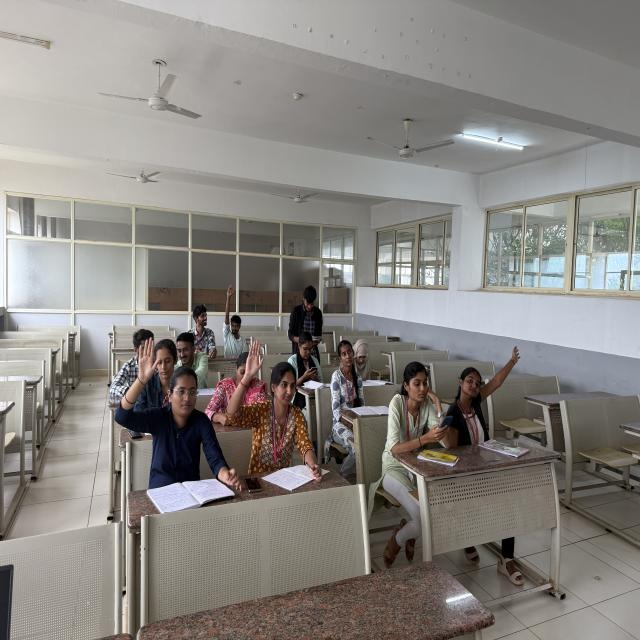Hand Rising: (118, 331, 234, 497), (227, 336, 321, 490), (448, 337, 530, 452), (216, 282, 250, 354)
Reading: (351, 334, 387, 389)
Using Phone: (376, 358, 459, 474), (290, 333, 328, 396)
